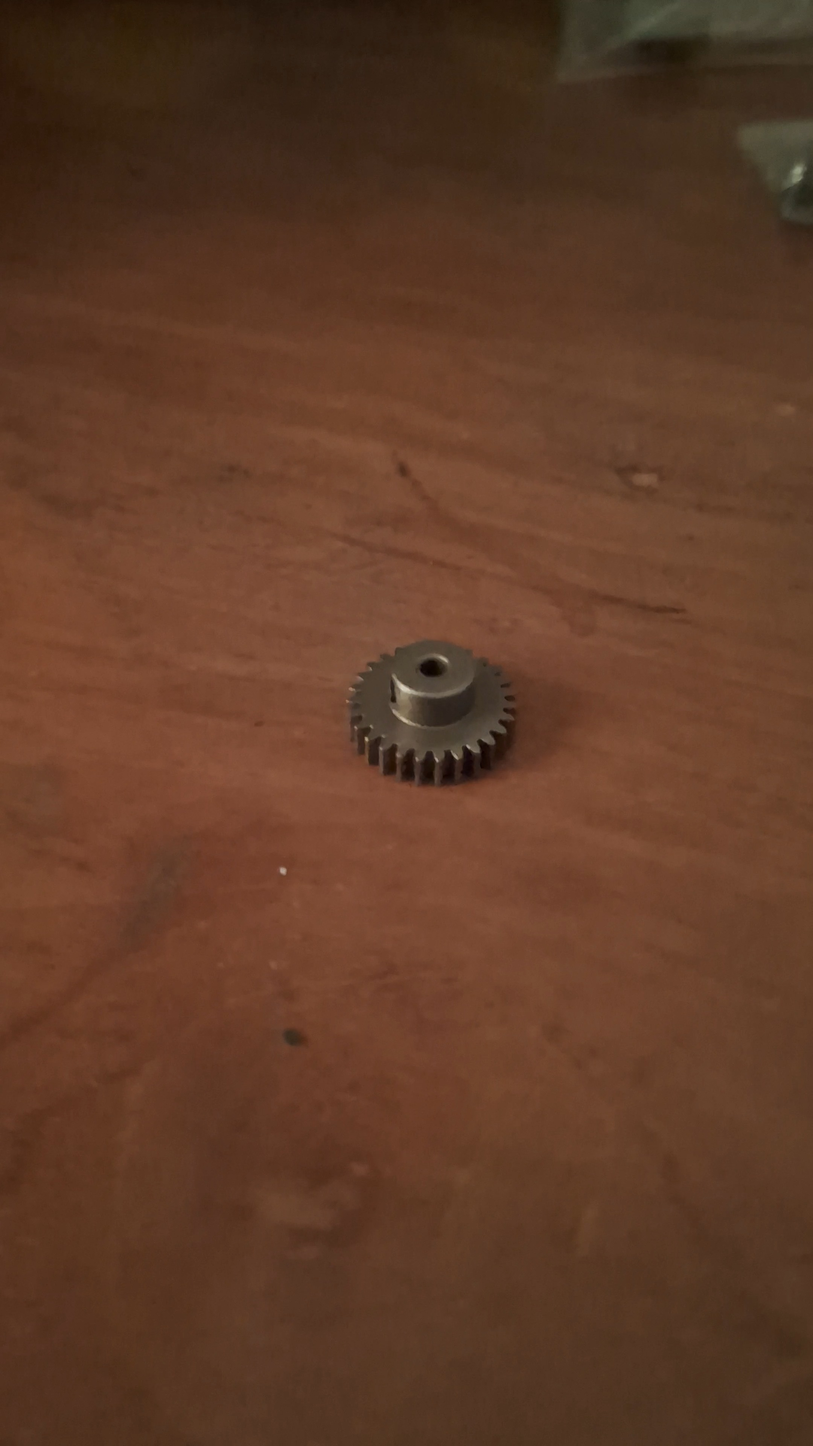spur gear: (348, 641, 515, 784)
